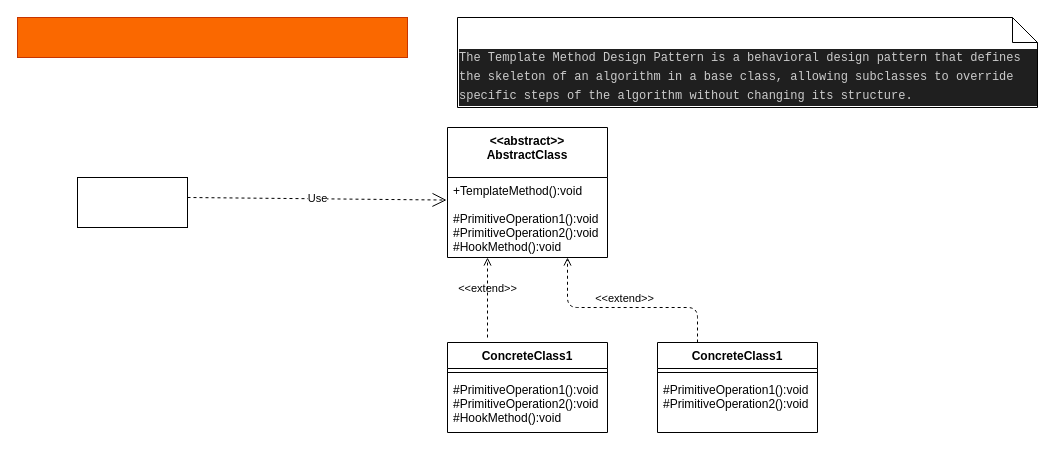
Image size: 1055x453. Some labels were removed from this diagram. Here are the shapes that lost their labels. From the top down, the box of each, then its label:
(16, 16, 408, 58): Template Method Design Pattern
(76, 176, 188, 228): Client
